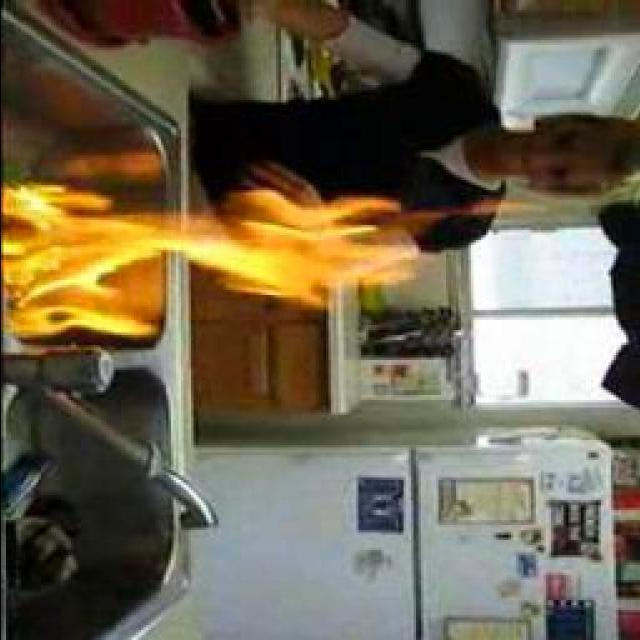Fire: (0, 185, 415, 338)
